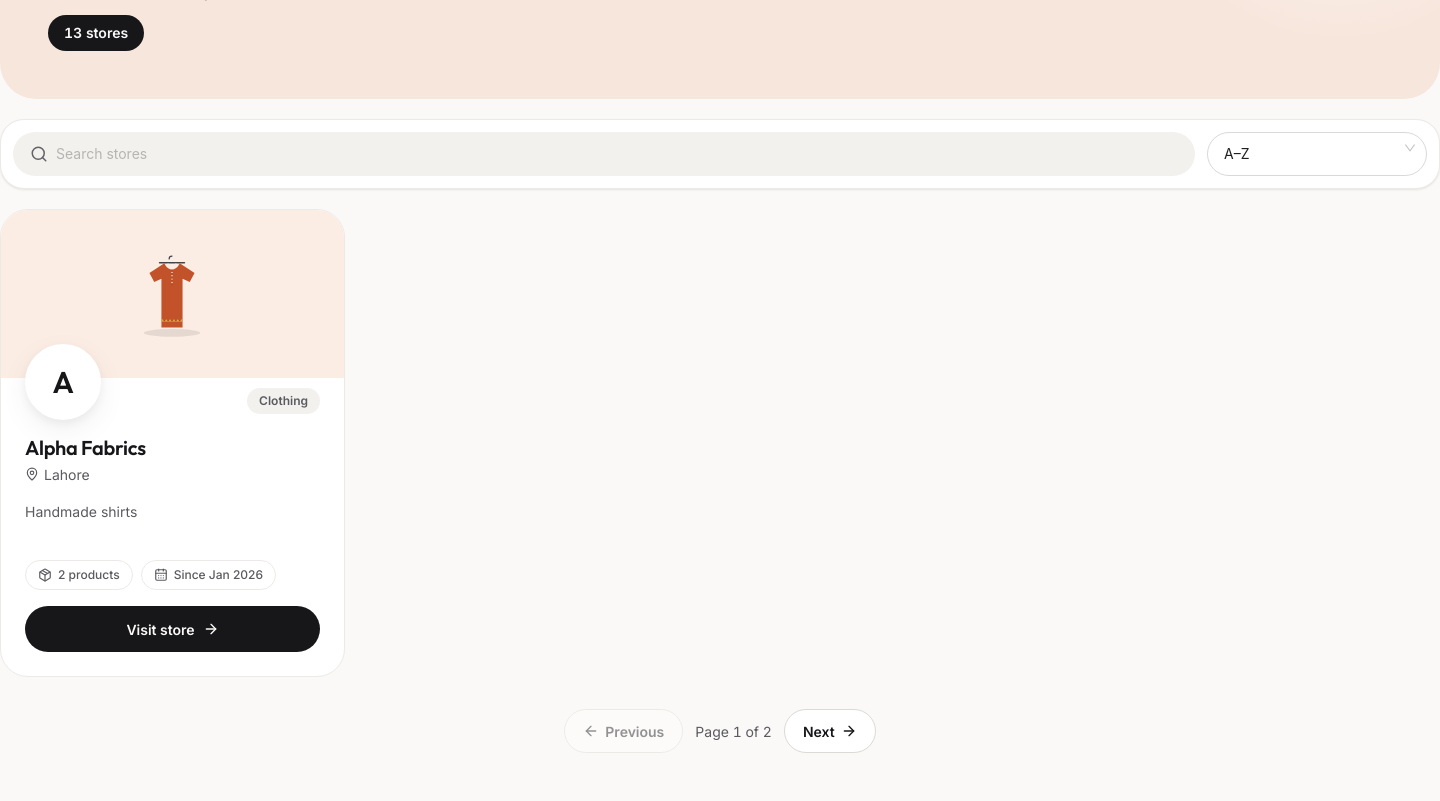
Test: Store Directory page › pages through stores and disables Next on the last page
(page scrolled)
Click the button "Next": [830, 731] box [784,709,876,753]
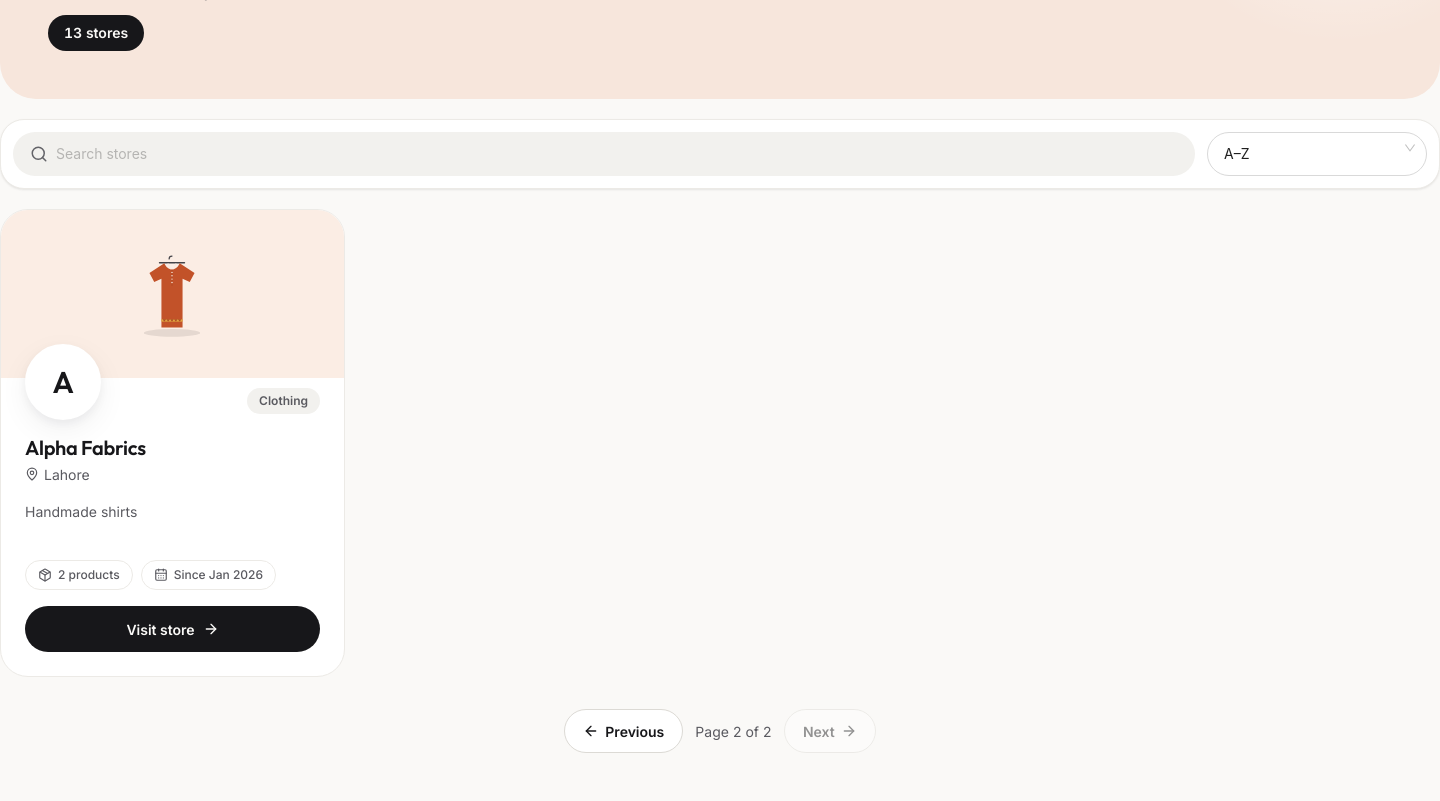
Now the button "Next" is disabled, box [784,709,876,753]
